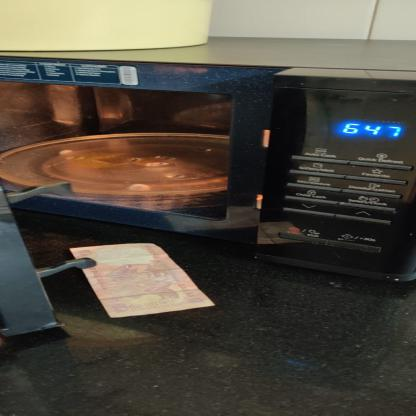Old10Back: (66, 242, 217, 319)
